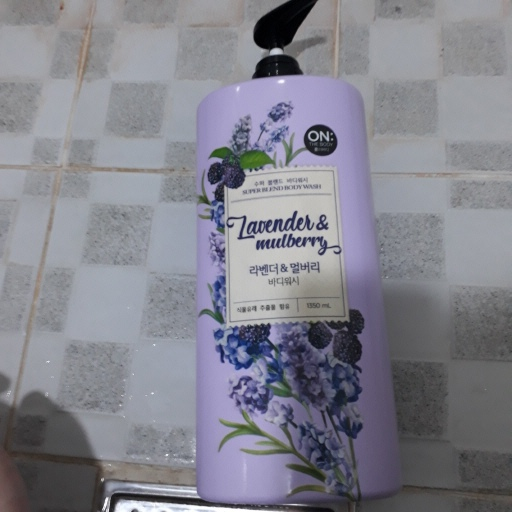Plastic_3: (189, 1, 404, 506)
